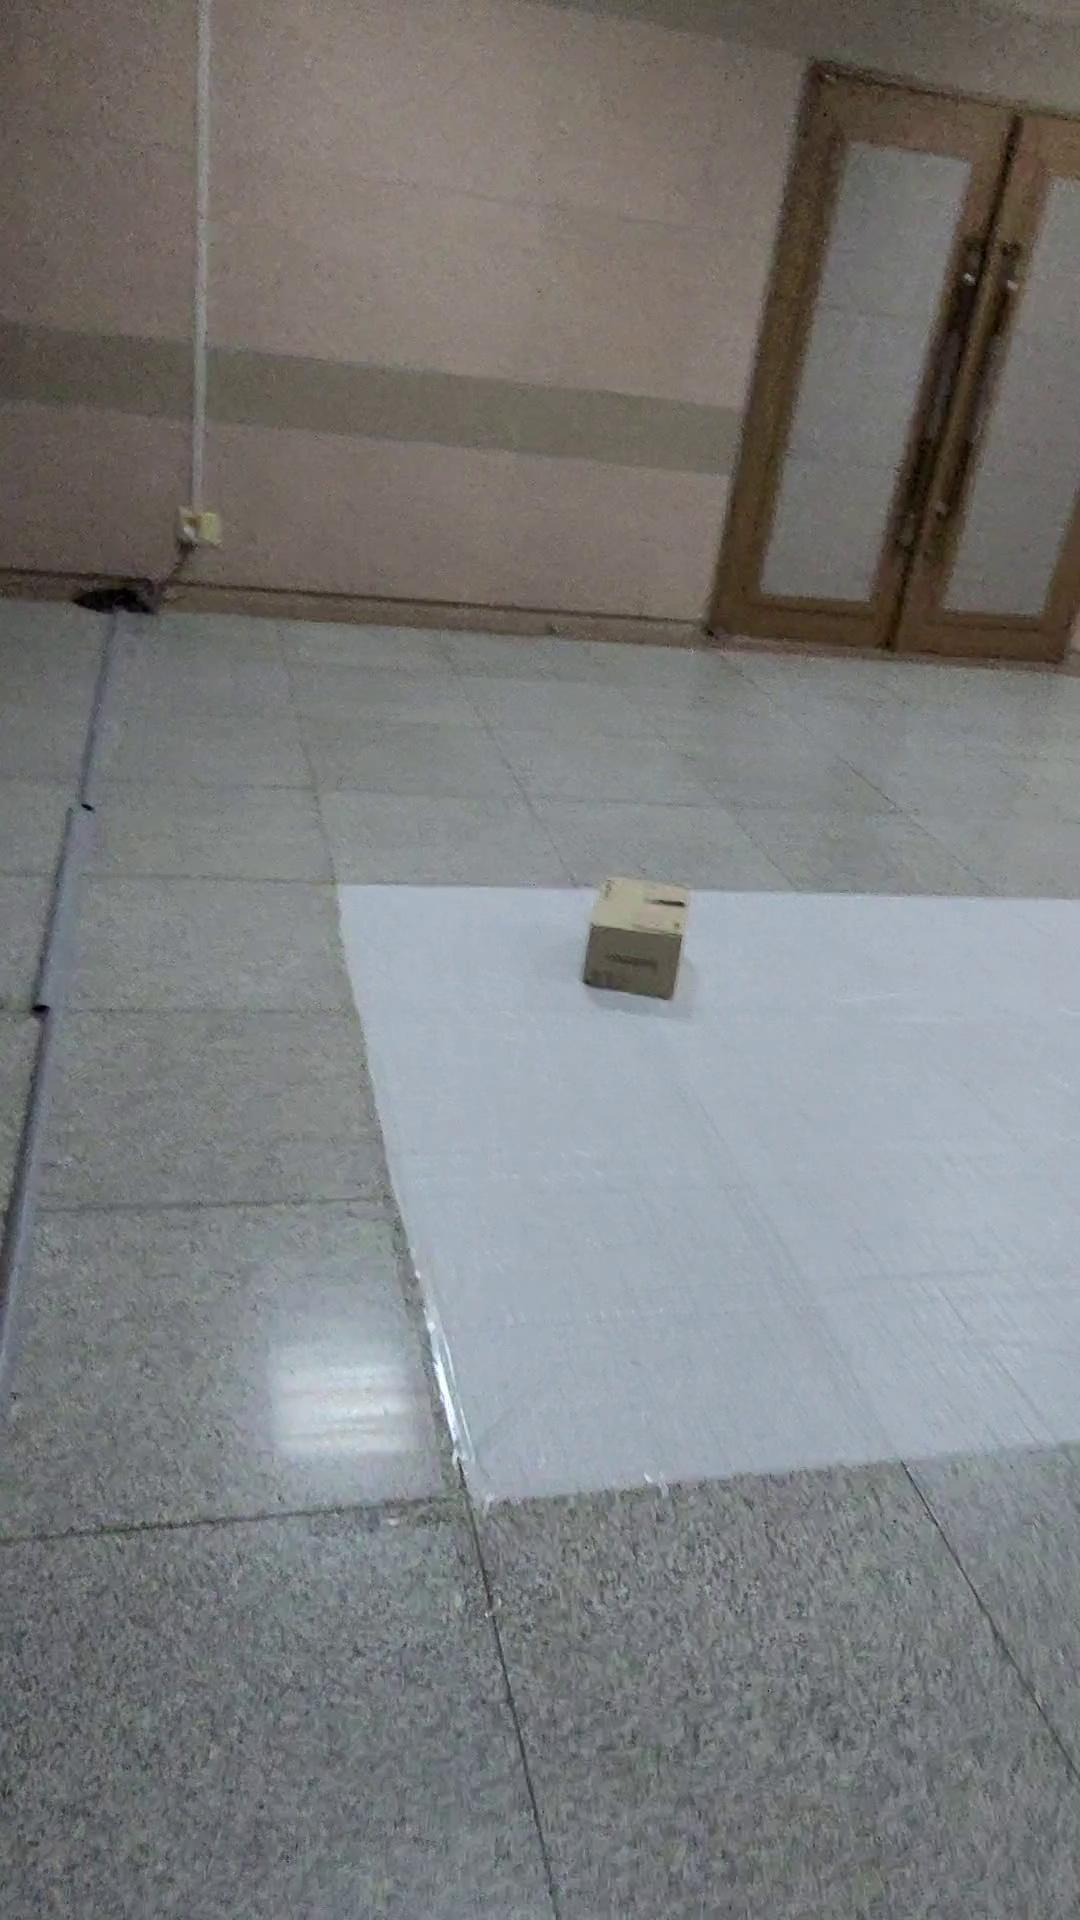Box: (524, 860, 738, 1040)
